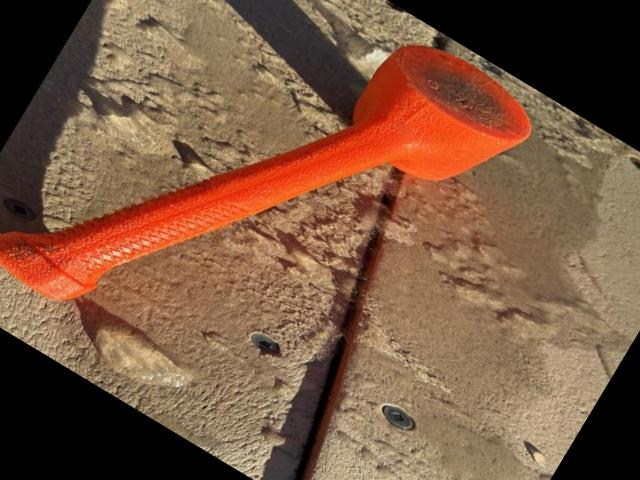hammer: (0, 0, 545, 467)
